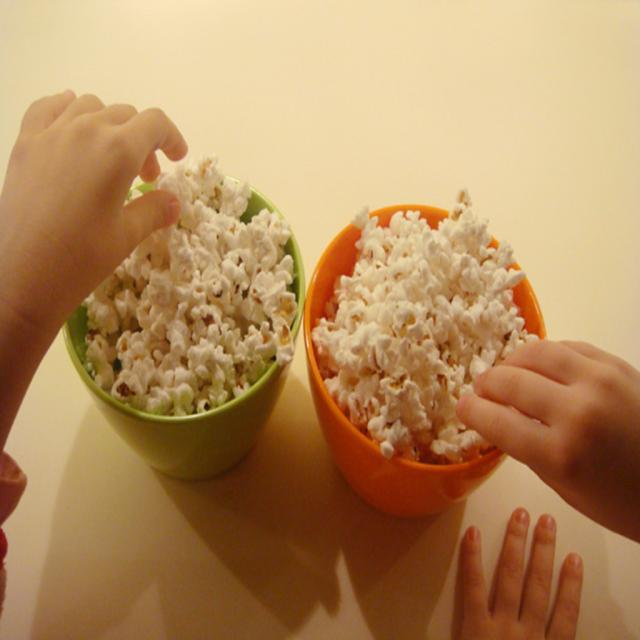Popcorn: (314, 196, 542, 466), (78, 149, 298, 423)
